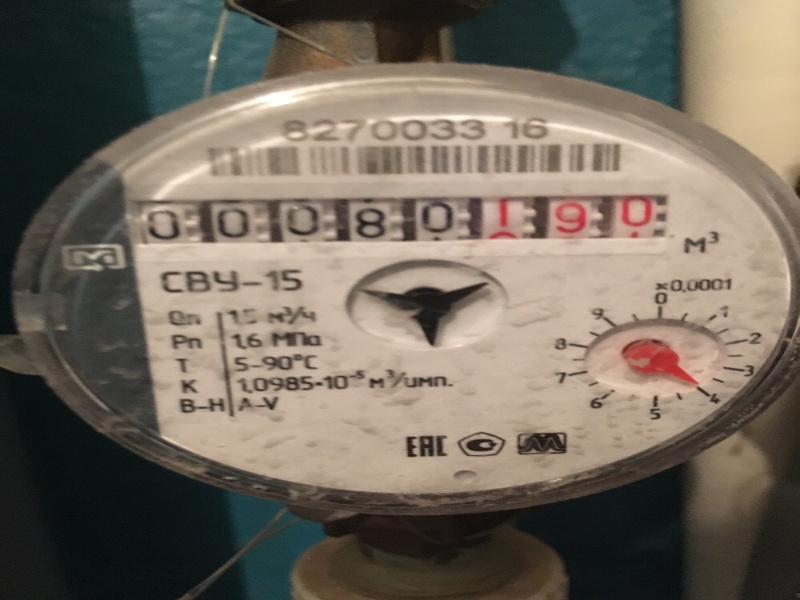meter: (121, 193, 666, 255)
